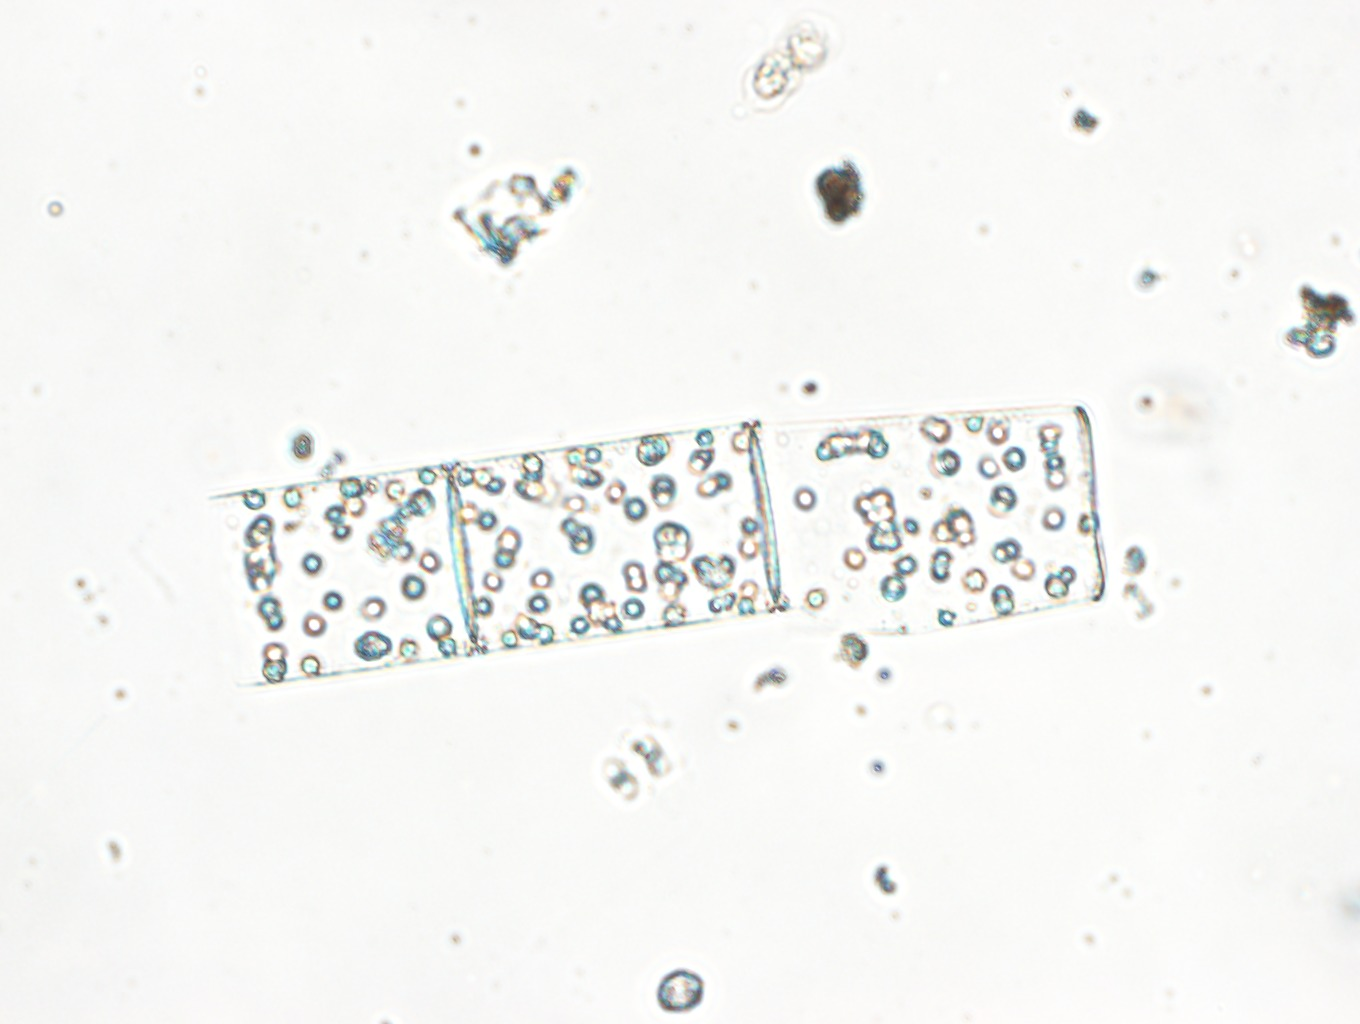guinardia flaccida: (207, 406, 1105, 689)
